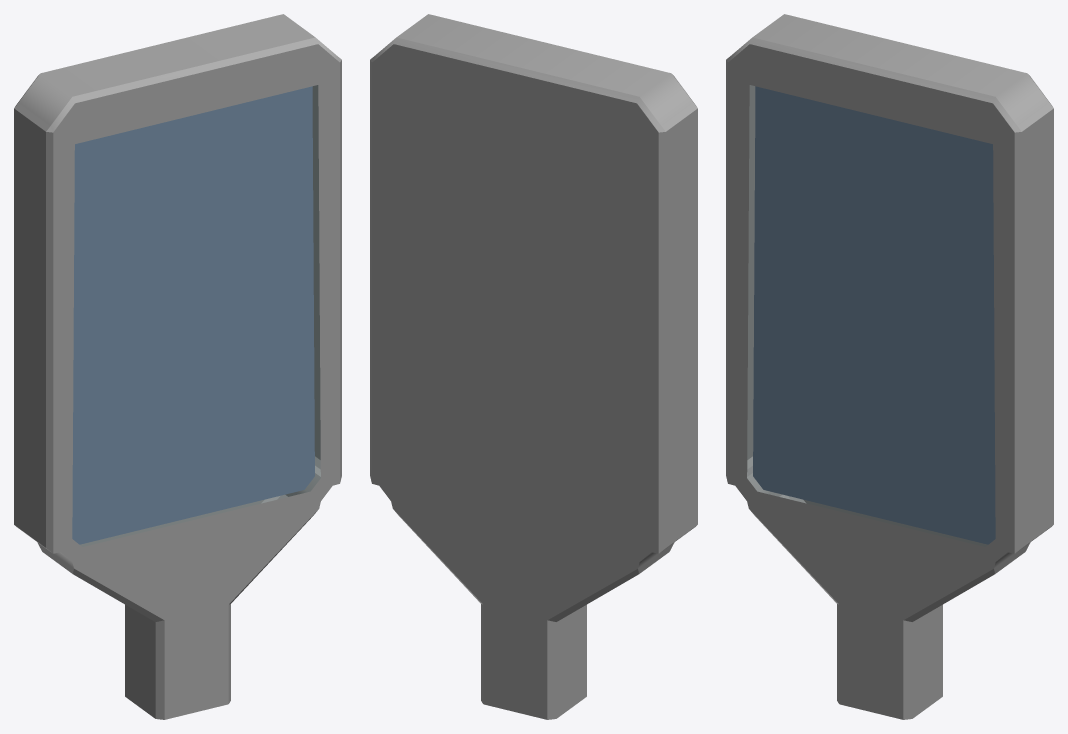
File: Pancarta_LOD.fbx
The picture shows the model from 3 angles, left to right: view 1: azimuth 30°, elevation 25°; view 2: azimuth 150°, elevation 25°; view 3: azimuth 330°, elevation 25°; orthographic projection.
Parts seen in each view (by area): view 1: Pancarta_LOD0; view 2: Pancarta_LOD0; view 3: Pancarta_LOD0.
Part boxes in pixels (left/top/right/bottom): Pancarta_LOD0: left=14, top=14, right=341, bottom=719; Pancarta_LOD0: left=370, top=14, right=697, bottom=719; Pancarta_LOD0: left=726, top=14, right=1053, bottom=719.
Size of what is drawn, in the model's own units: 8 by 16.62 by 1.74.
